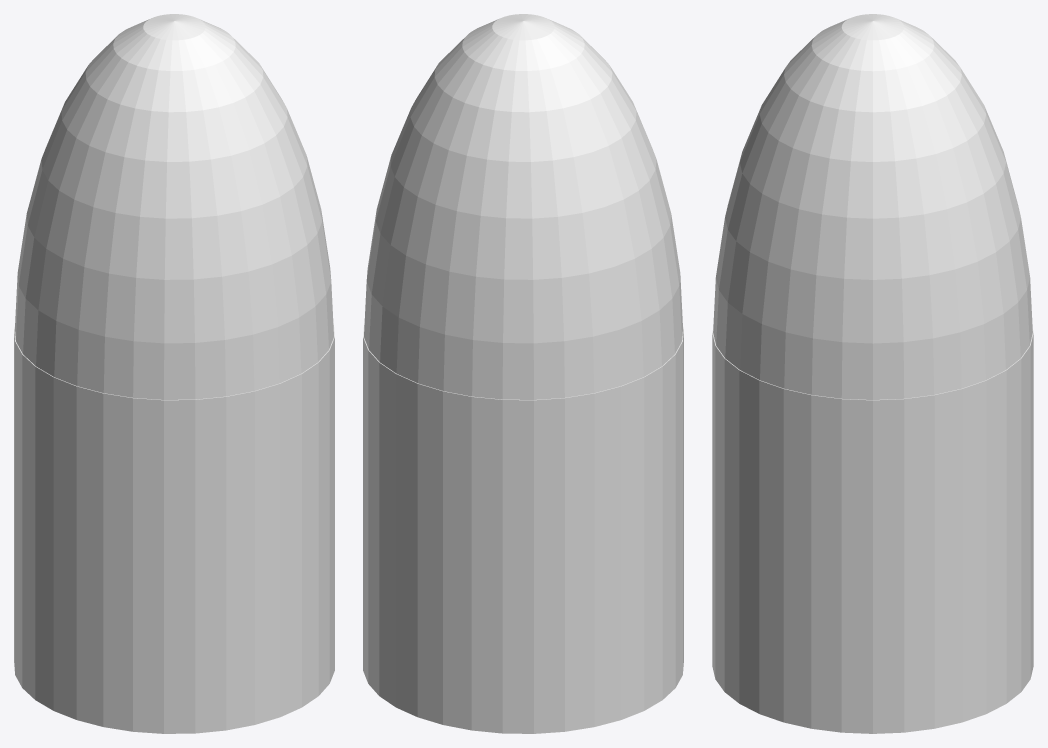
Rendered from bullet.gltf.
The picture shows the model from 3 angles, left to right: view 1: azimuth 30°, elevation 25°; view 2: azimuth 150°, elevation 25°; view 3: azimuth 270°, elevation 25°; orthographic projection.
Visible parts, largest first — view 1: 球; view 2: 球; view 3: 球.
Boxes of the visible parts, box(x1,y1,x2,y2) form: 球: box(14, 14, 334, 733); 球: box(363, 14, 683, 733); 球: box(712, 14, 1033, 733).
Size of the model in its own units: 0.2988 by 0.6614 by 0.2988.
1 material, 1 textured.
